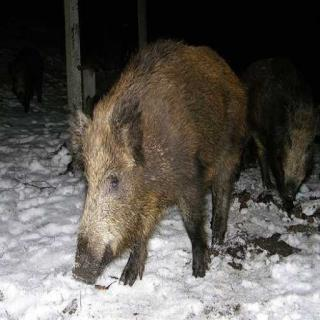Pig: (48, 22, 224, 314), (229, 48, 320, 211)
